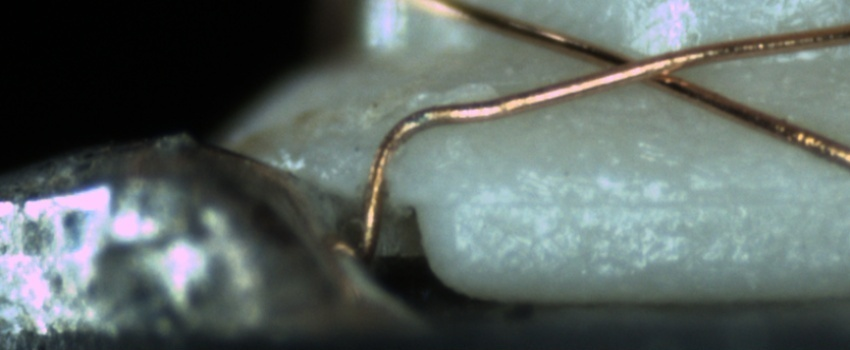CL: (578, 40, 702, 91)
DL: (458, 167, 849, 230)
